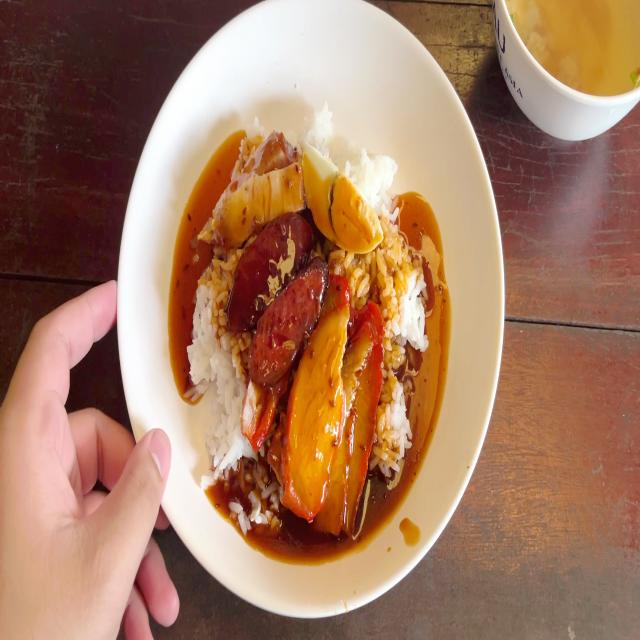boiled_egg: (305, 137, 388, 253)
chainese_sausage: (232, 214, 325, 370), (218, 210, 304, 318), (254, 266, 326, 366)
crispy_pork: (212, 124, 304, 236), (218, 159, 301, 223), (220, 128, 290, 201)
red_pork: (287, 298, 375, 521), (291, 294, 347, 499), (334, 312, 385, 502)
red_pork_and_crispy_pork: (204, 109, 424, 513)
rice: (190, 257, 242, 501), (381, 219, 426, 482), (342, 124, 405, 203)
